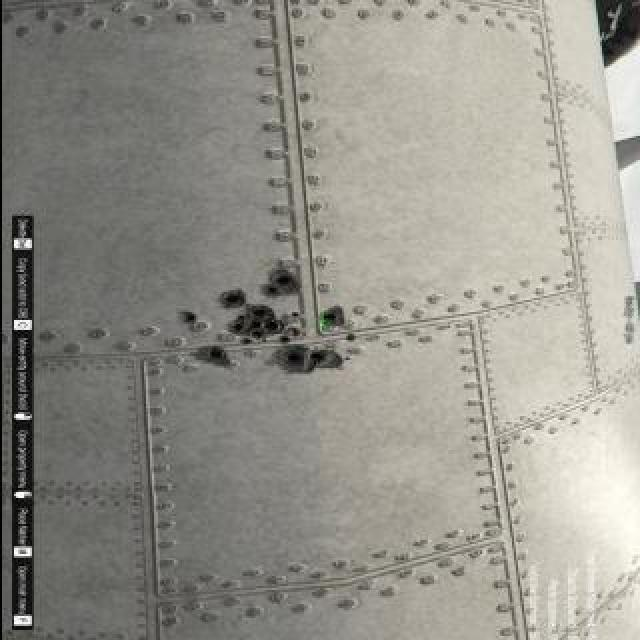crack: (271, 347, 339, 375), (229, 310, 279, 338), (261, 272, 301, 300), (196, 347, 228, 367), (219, 292, 243, 308), (325, 310, 343, 326), (285, 330, 305, 342), (179, 314, 197, 326)
